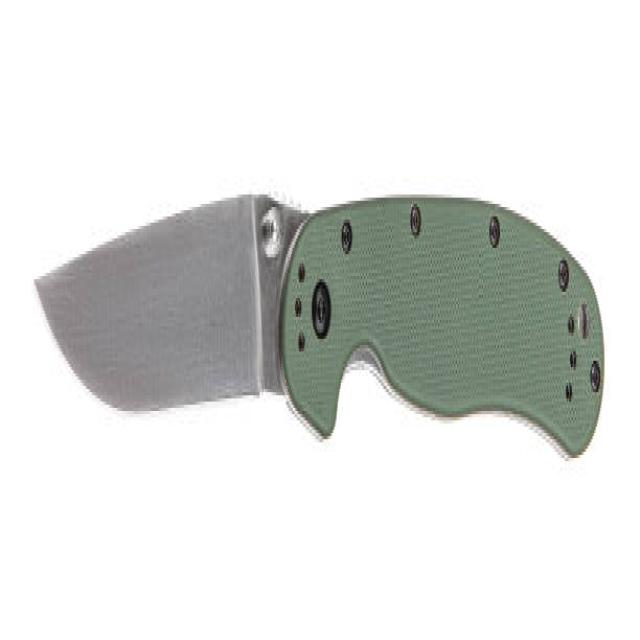knife: (28, 161, 611, 497)
